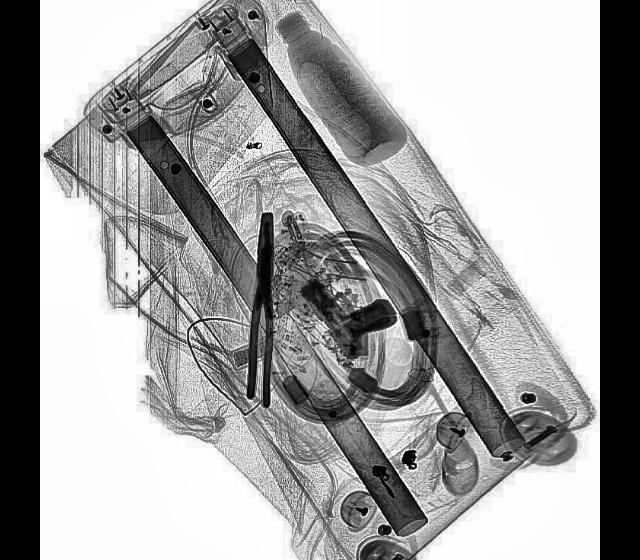Gun: (300, 237, 402, 367)
Pliers: (248, 210, 282, 404)
